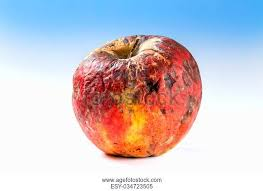damaged_apple: (74, 38, 202, 159)
